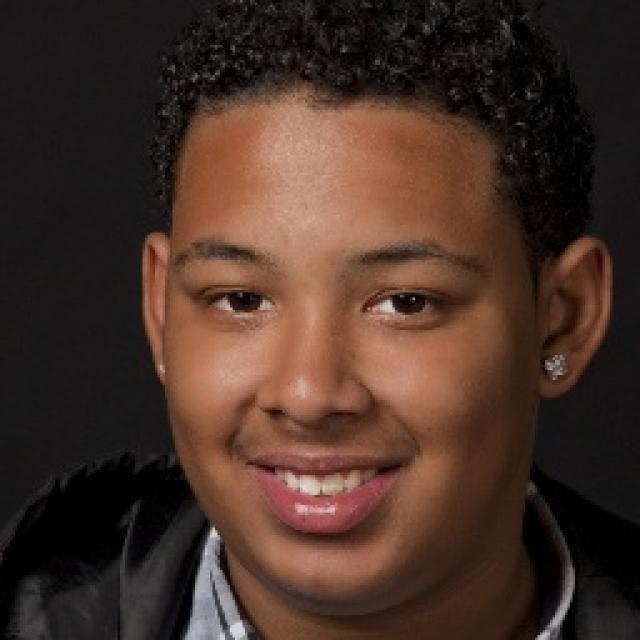earlobe: (534, 237, 612, 399), (139, 231, 169, 391)
